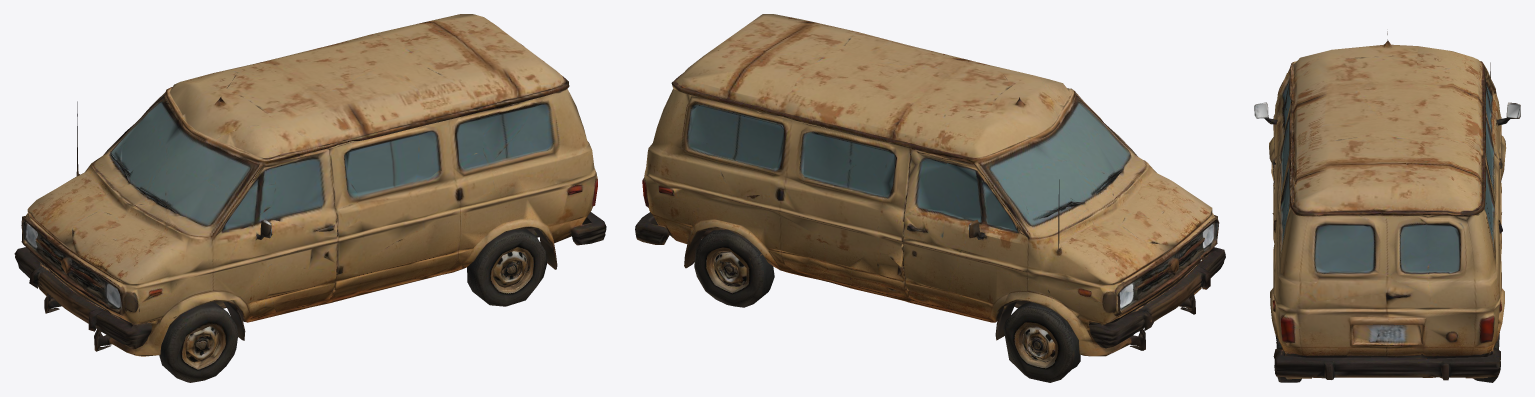
Rendered from car_minivan_light.glb.
3 renders of one model, left to right at view 1: azimuth 30°, elevation 25°; view 2: azimuth 150°, elevation 25°; view 3: azimuth 270°, elevation 25°, orthographic.
Bounding box in the file's own units: 3.66 × 1.73 × 1.72.
Materials: 1 (1 with a texture image).
